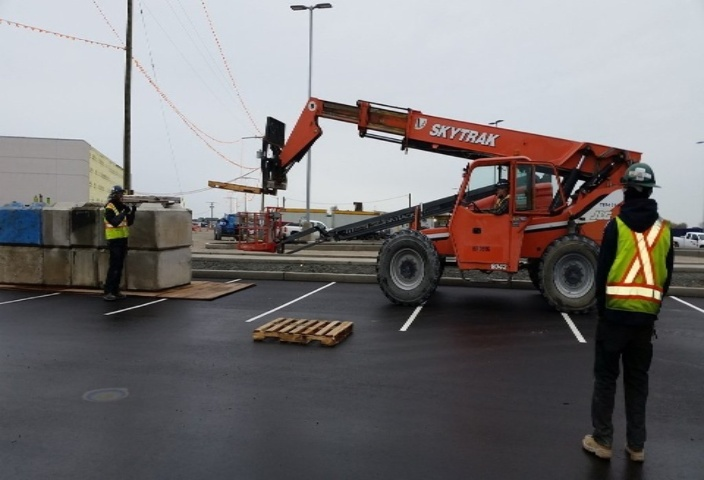industrial: (244, 92, 674, 318)
